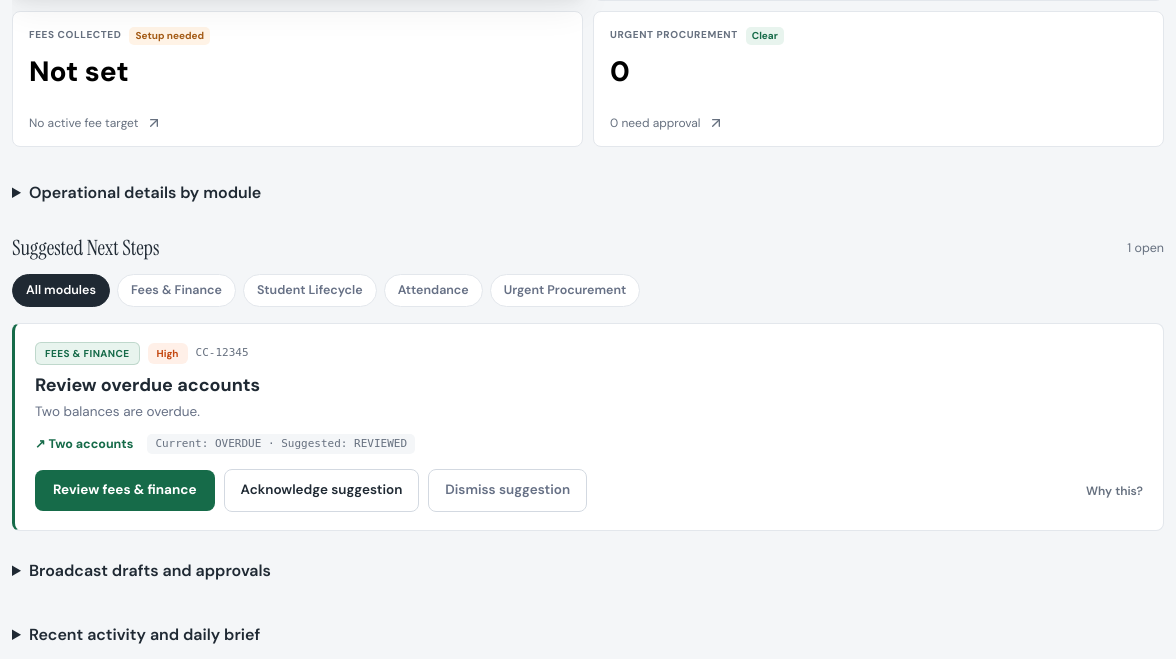
Test: HomePanel source-backed suggestions › shows the actual reason, source and recorded time when Why this is expanded
(page scrolled)
Click the button "Why this?" at (1114, 491), box x1=1086 y1=482 x2=1143 y2=500
(page scrolled)
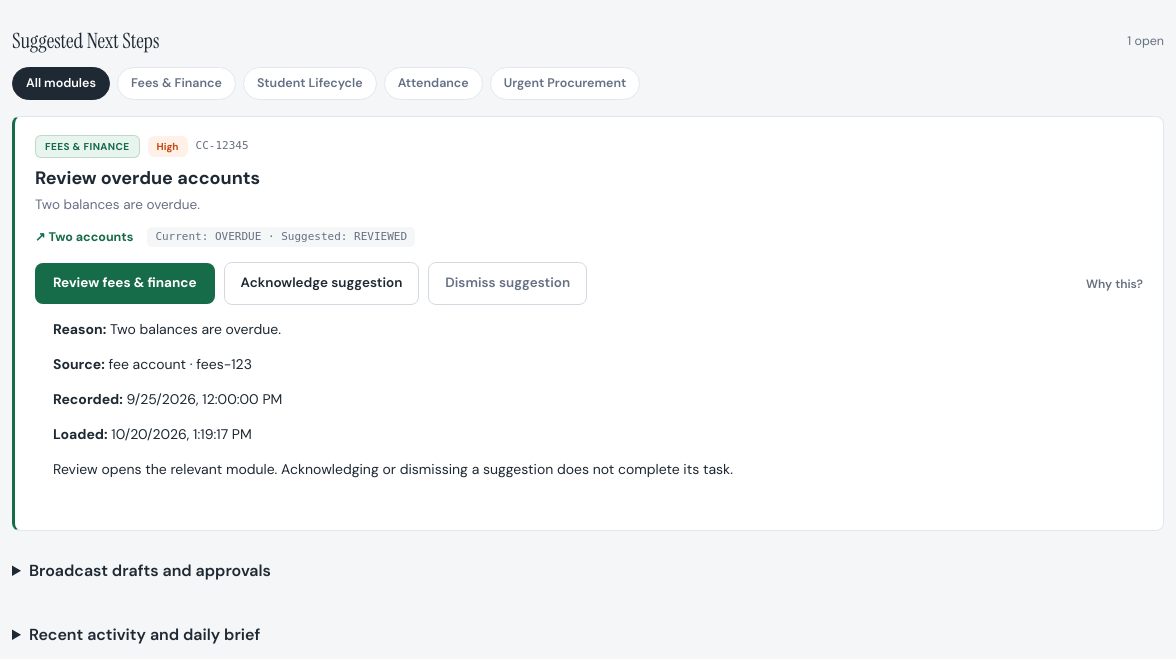
Expected: the button "Why this?" is expanded, x1=1086 y1=275 x2=1143 y2=293
Expected: the text "Source: fee account · fees-123" is shown, x1=53 y1=355 x2=252 y2=373
Expected: the text "does not complete its task" is shown, x1=53 y1=460 x2=733 y2=478
